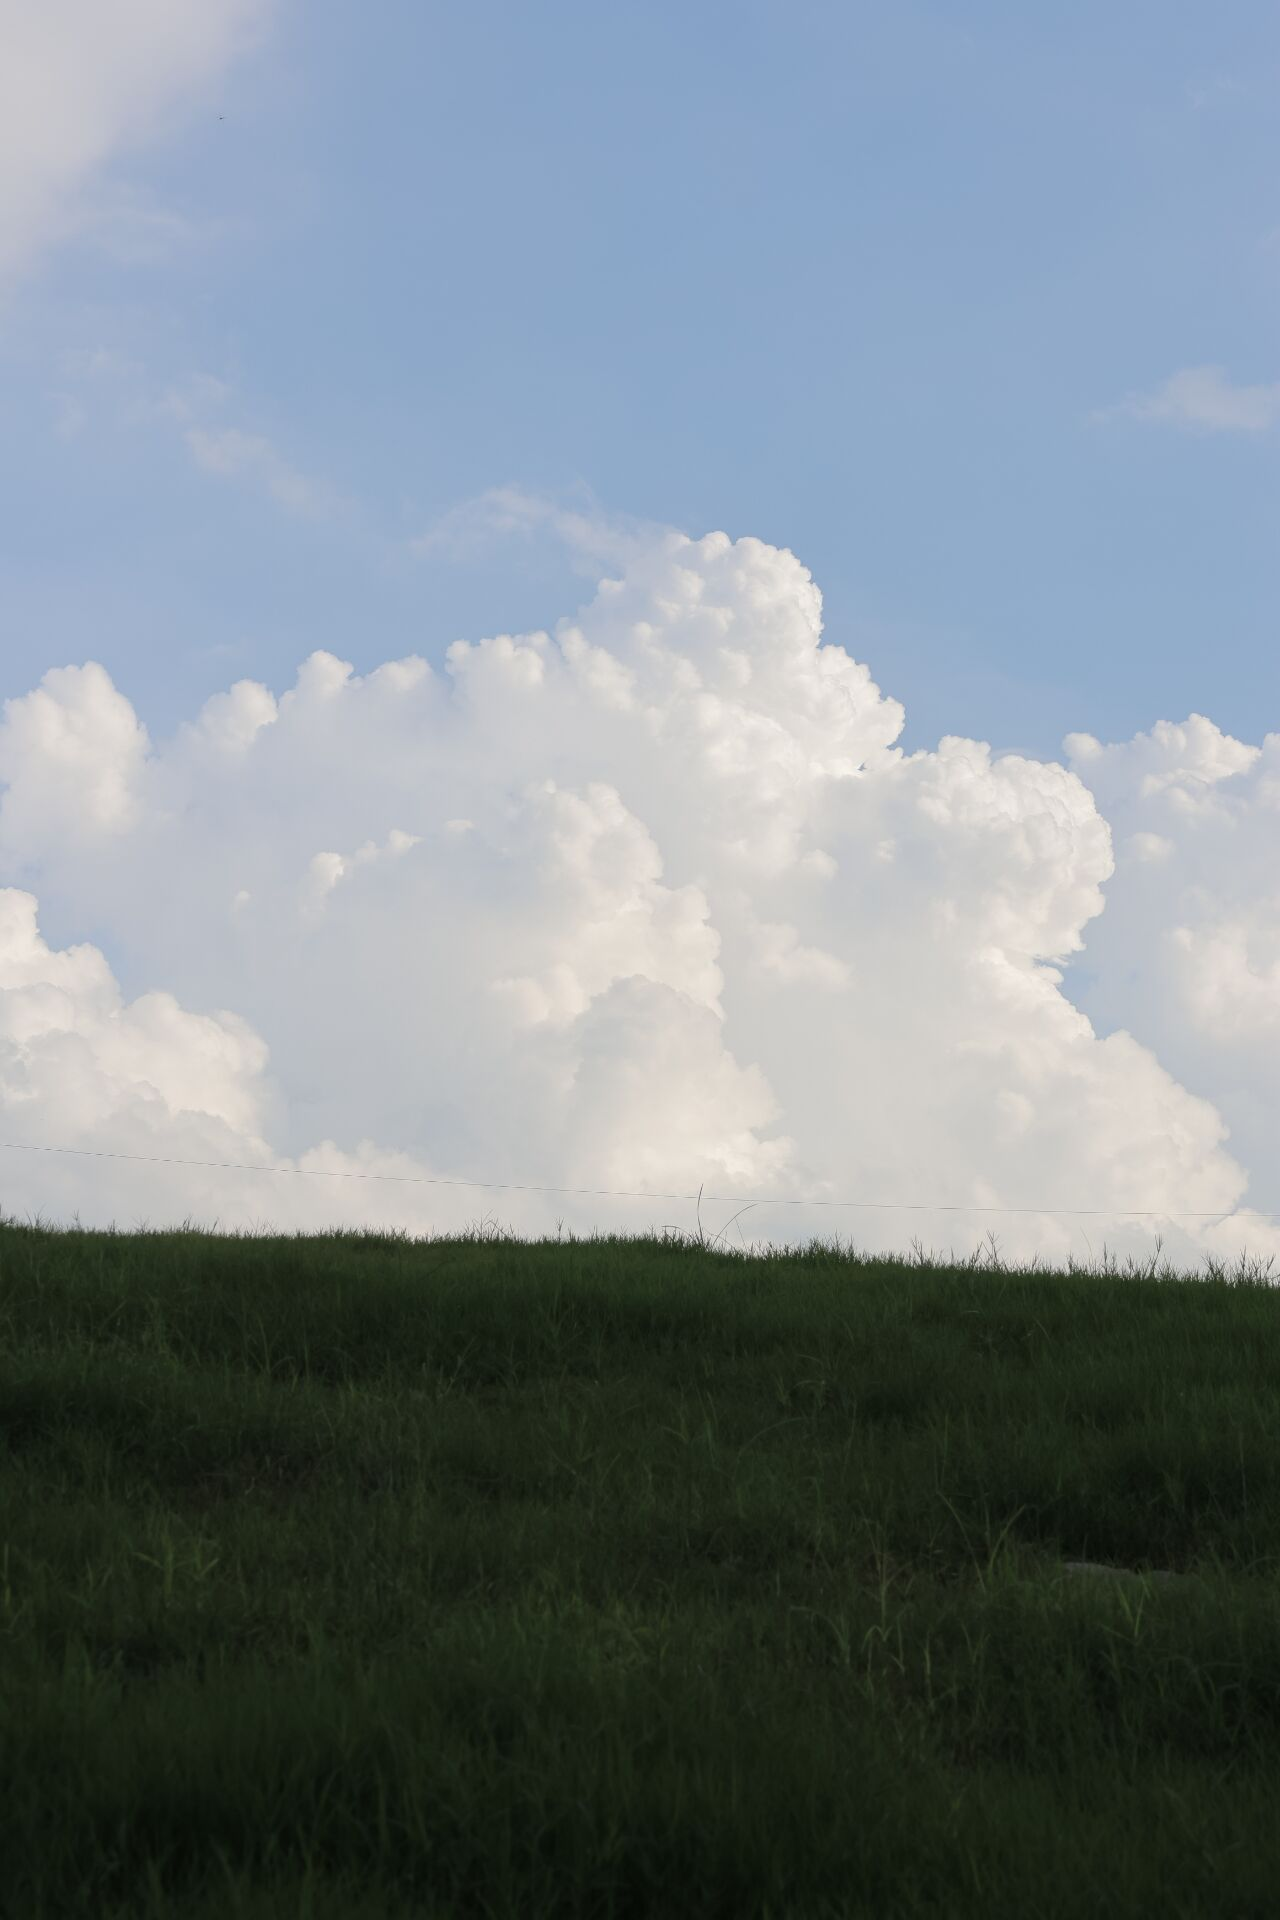Cumulus: (31, 434, 1280, 1251)
